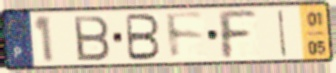1: (32, 14, 56, 65)
B: (71, 14, 112, 63), (124, 12, 162, 62)
F: (214, 9, 259, 62), (163, 11, 207, 62)
I: (276, 8, 289, 59)
